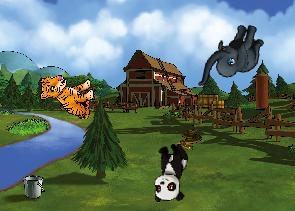elephant: (197, 16, 266, 96)
panda: (152, 141, 188, 203)
tiger: (40, 74, 94, 119)
